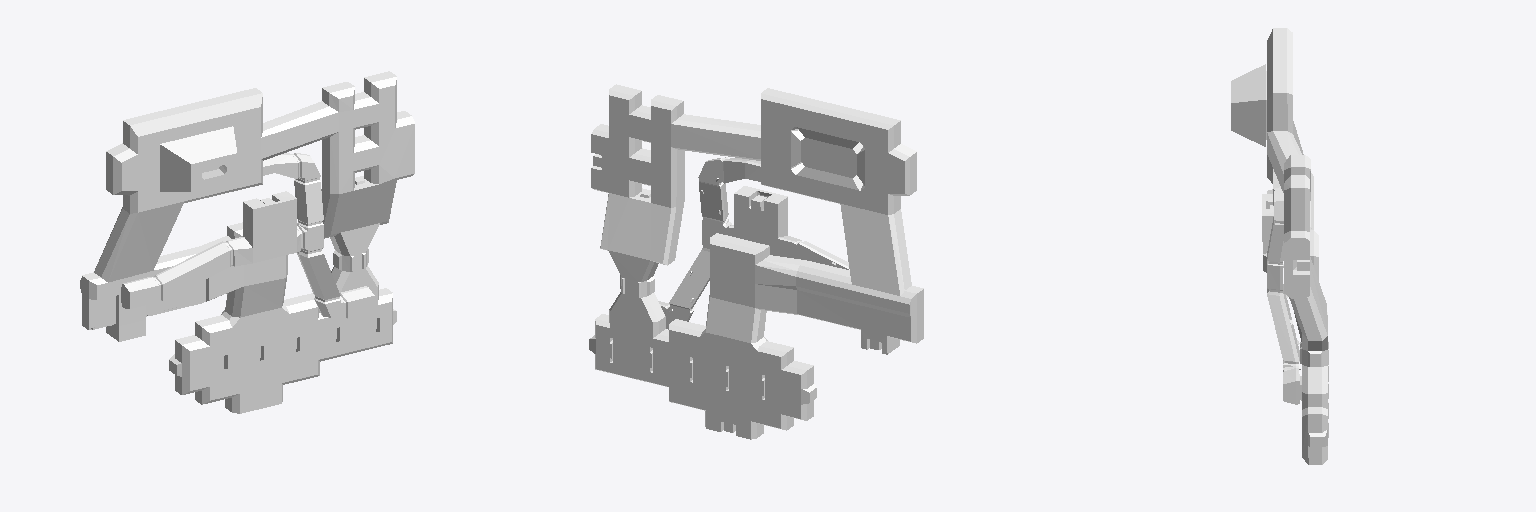
Rendered from ratrace_Lightmap.obj.
The picture shows the model from 3 angles: view 1: azimuth 30°, elevation 25°; view 2: azimuth 150°, elevation 25°; view 3: azimuth 270°, elevation 25°; orthographic projection.
Visible parts, largest first — view 1: ratrace_Lightmap_0, ratrace_Lightmap_3, ratrace_Lightmap_4, ratrace_Lightmap_7, ratrace_Lightmap_5, ratrace_Lightmap_8, ratrace_Lightmap_9, ratrace_Lightmap_6, ratrace_Lightmap_2, ratrace_Lightmap_10; view 2: ratrace_Lightmap_0, ratrace_Lightmap_1, ratrace_Lightmap_4, ratrace_Lightmap_3, ratrace_Lightmap_6, ratrace_Lightmap_5; view 3: ratrace_Lightmap_0, ratrace_Lightmap_4, ratrace_Lightmap_6, ratrace_Lightmap_7, ratrace_Lightmap_5, ratrace_Lightmap_8, ratrace_Lightmap_2.
Part boxes in pixels (bbox=[...]): ratrace_Lightmap_0: bbox=[80, 88, 300, 341]; ratrace_Lightmap_3: bbox=[169, 268, 391, 413]; ratrace_Lightmap_4: bbox=[261, 71, 414, 237]; ratrace_Lightmap_7: bbox=[297, 249, 343, 319]; ratrace_Lightmap_5: bbox=[324, 221, 387, 271]; ratrace_Lightmap_8: bbox=[294, 178, 323, 225]; ratrace_Lightmap_9: bbox=[263, 153, 320, 180]; ratrace_Lightmap_6: bbox=[318, 265, 396, 361]; ratrace_Lightmap_2: bbox=[340, 286, 374, 318]; ratrace_Lightmap_10: bbox=[297, 222, 323, 251]; ratrace_Lightmap_0: bbox=[591, 88, 923, 354]; ratrace_Lightmap_1: bbox=[596, 244, 909, 439]; ratrace_Lightmap_4: bbox=[592, 84, 760, 265]; ratrace_Lightmap_3: bbox=[669, 319, 816, 439]; ratrace_Lightmap_6: bbox=[589, 292, 689, 386]; ratrace_Lightmap_5: bbox=[600, 248, 664, 297]; ratrace_Lightmap_0: bbox=[1231, 28, 1327, 360]; ratrace_Lightmap_4: bbox=[1267, 131, 1327, 340]; ratrace_Lightmap_6: bbox=[1300, 365, 1328, 464]; ratrace_Lightmap_7: bbox=[1267, 289, 1300, 371]; ratrace_Lightmap_5: bbox=[1300, 334, 1328, 366]; ratrace_Lightmap_8: bbox=[1267, 217, 1283, 264]; ratrace_Lightmap_2: bbox=[1283, 368, 1301, 404].
Bounding box in the file's own units: 3235 × 3150 × 855.